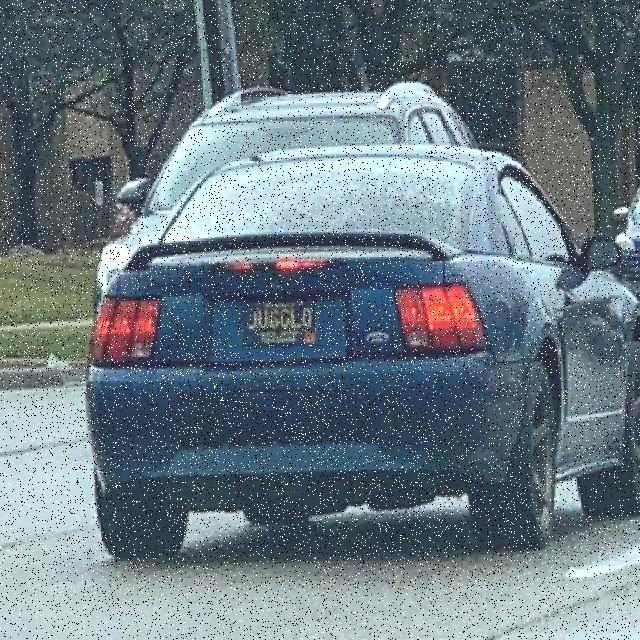LicensePlate: (241, 294, 315, 346)
